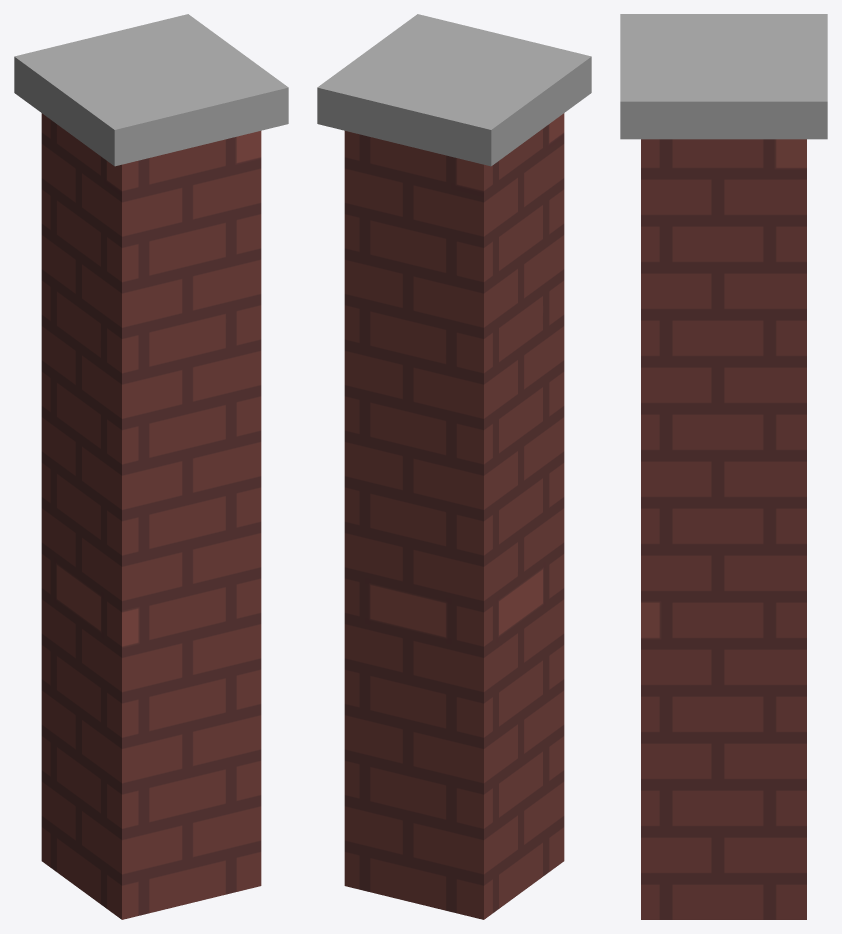
File: SM_wallAttic_01_corner.glb
3 renders of one model, left to right at view 1: azimuth 30°, elevation 25°; view 2: azimuth 150°, elevation 25°; view 3: azimuth 270°, elevation 25°, orthographic. The views are drawn at different scales.
Visible parts, largest first — view 1: SM_wallAttic_01_corner; view 2: SM_wallAttic_01_corner; view 3: SM_wallAttic_01_corner.
Boxes of the visible parts, bbox=[...] form: SM_wallAttic_01_corner: bbox=[14, 14, 288, 919]; SM_wallAttic_01_corner: bbox=[317, 14, 591, 919]; SM_wallAttic_01_corner: bbox=[620, 14, 827, 919].
Size of the model in its own units: 0.5 by 2.2 by 0.5.
2 materials, 2 textured.
